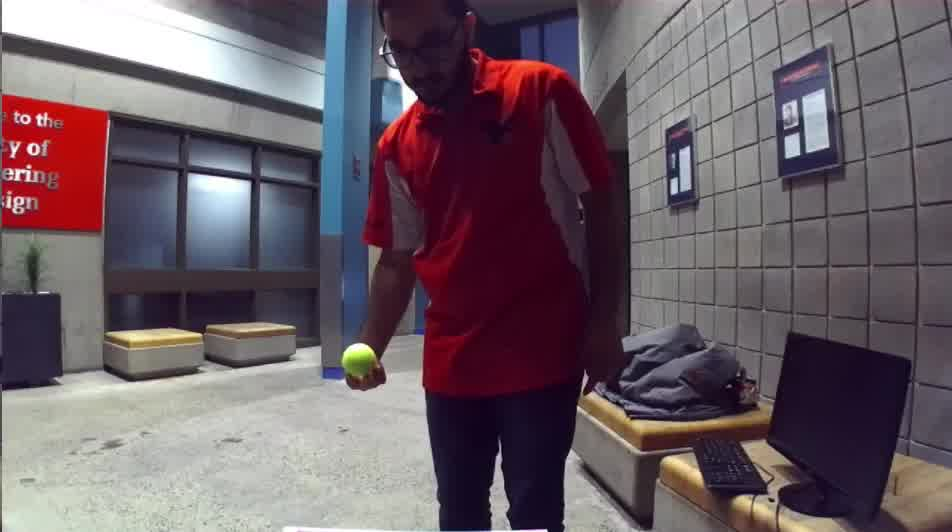tennis_ball: (340, 341, 379, 381)
